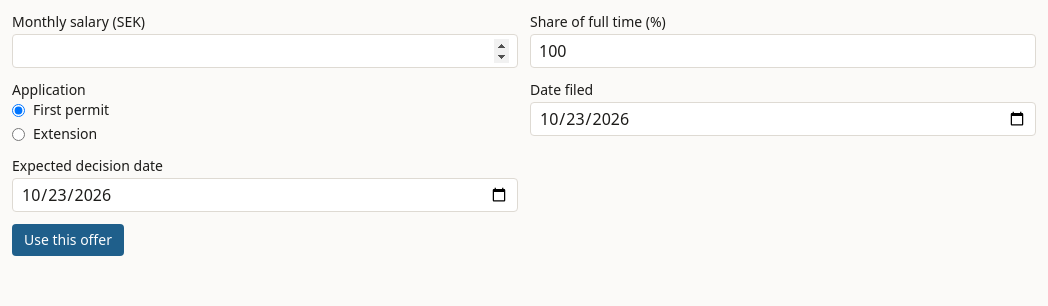
Test: explains a network failure instead of failing silently
Type "52000" into the number field labelled "Monthly salary (SEK)". click: (265, 51)
box: [12,34,518,68]
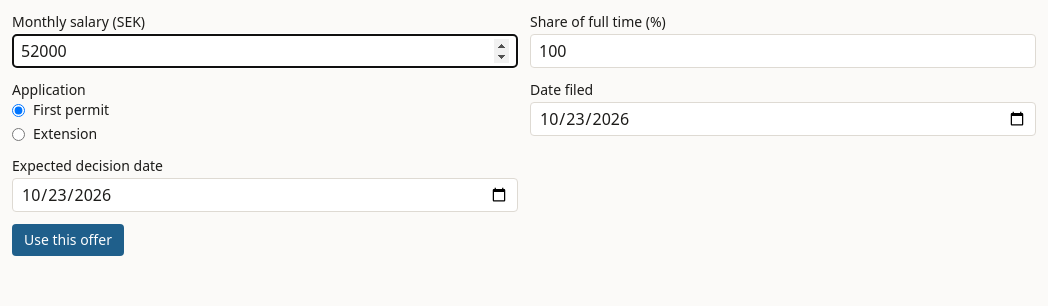
Click the button "Use this offer". click: (68, 240)
box: [12,224,124,256]
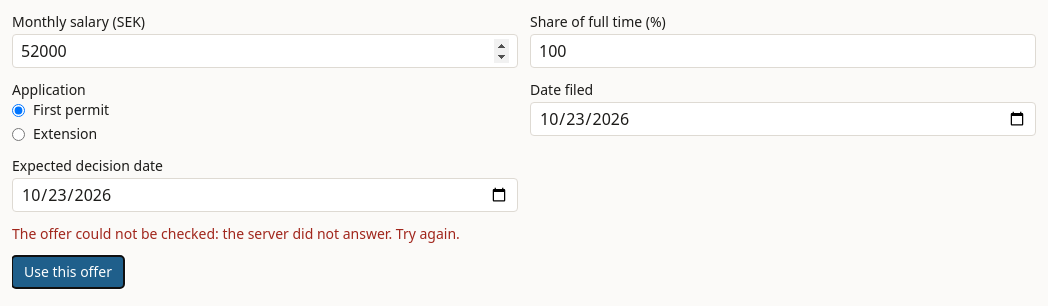
Check: the message shows "could not be checked", box [12,224,460,243]
